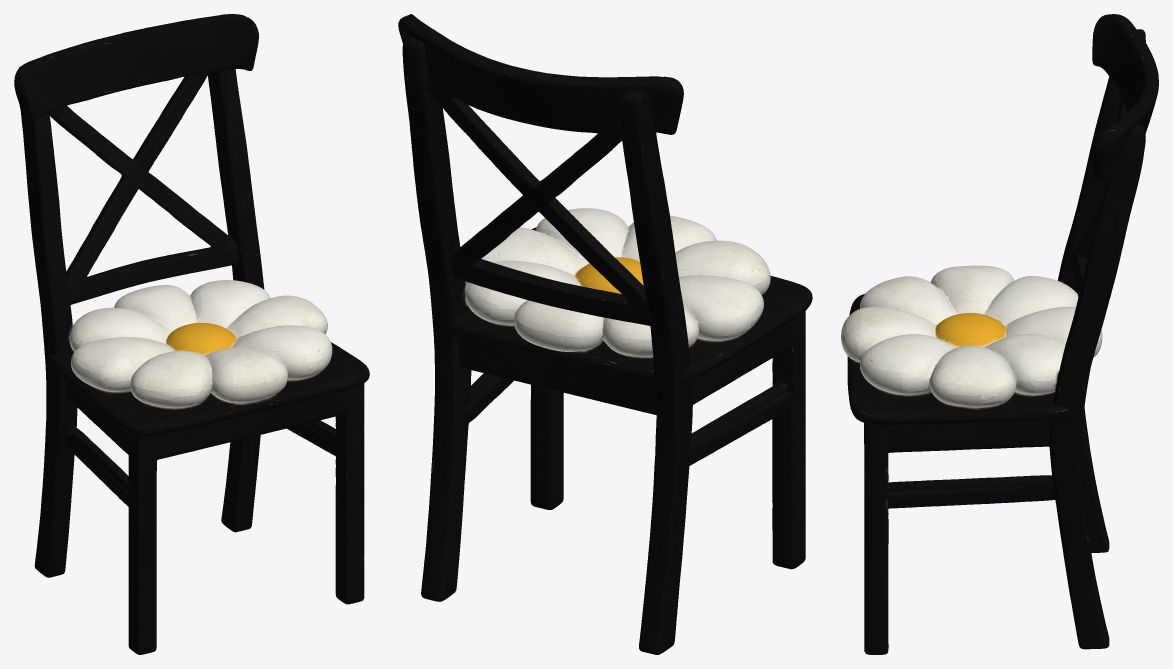
Rendered from item_cdfa4030.glb.
The picture shows the model from 3 angles, left to right: view 1: azimuth 30°, elevation 25°; view 2: azimuth 150°, elevation 25°; view 3: azimuth 270°, elevation 25°; orthographic projection. The views are drawn at different scales.
Visible parts, largest first — view 1: world; view 2: world; view 3: world.
Boxes of the visible parts, left/top/right/bottom form: world: left=14, top=14, right=369, bottom=654; world: left=398, top=14, right=812, bottom=654; world: left=841, top=14, right=1158, bottom=654.
Bounding box in the file's own units: 0.458 × 0.9 × 0.4911.
Materials: 1 (1 with a texture image).
